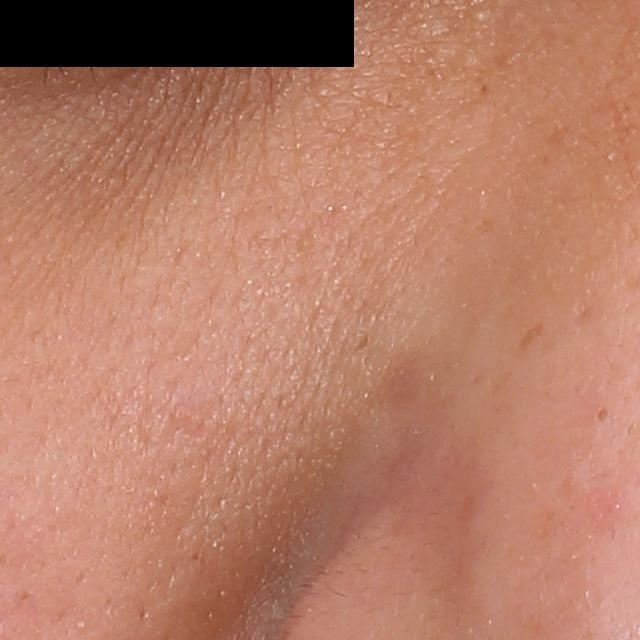comedo: (593, 400, 612, 428)
melasma: (516, 322, 546, 354)
